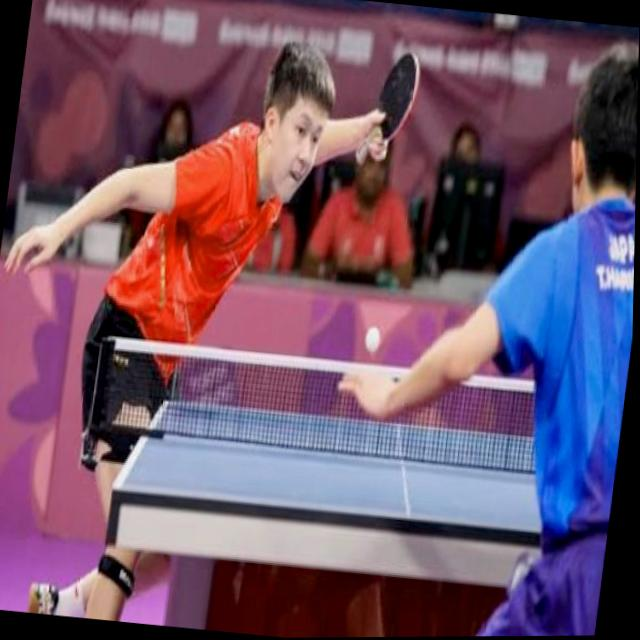TT Net: (82, 333, 624, 486)
TT Racket: (371, 38, 429, 162)
TT Table: (119, 396, 616, 544)
